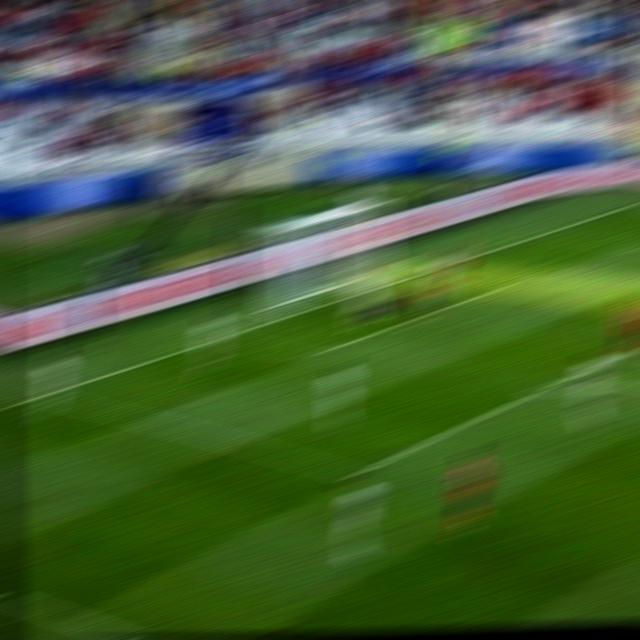bigarea_bottom_inner: (337, 462, 371, 482)
bigarea_top_outter: (530, 225, 561, 238)
bottom_arc_area_intersection: (526, 377, 562, 399)
smallarea_bottom_inner: (296, 344, 326, 365)
smallarea_bottom_outter: (208, 326, 241, 346)
smallarea_top_inner: (501, 270, 540, 290)
